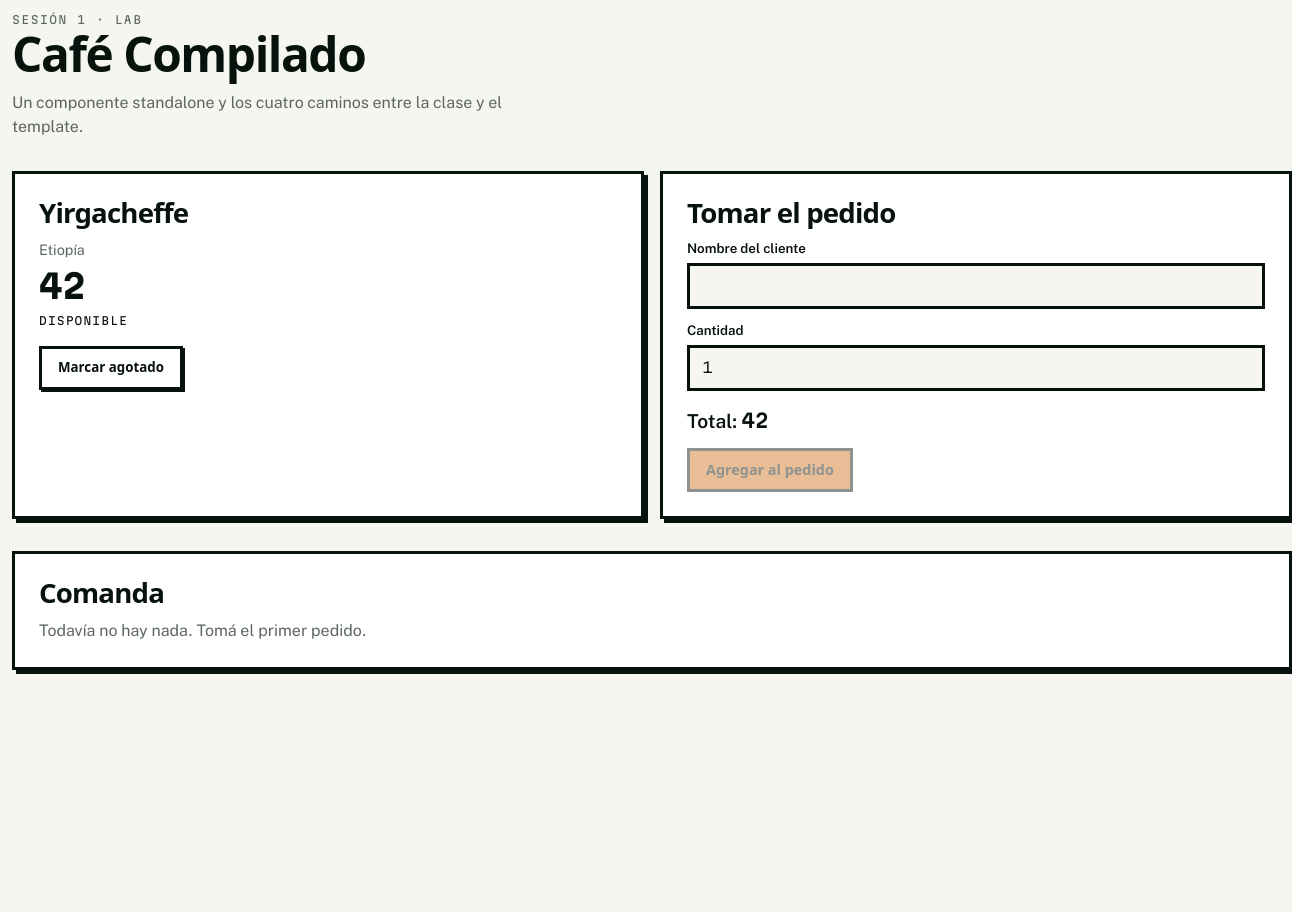
S01Component · los cuatro bindings › 4 · el total se actualiza mientras se escribe
Replace the text in the number field named "quantity" with "3" at (976, 368), box [687,345,1265,391]
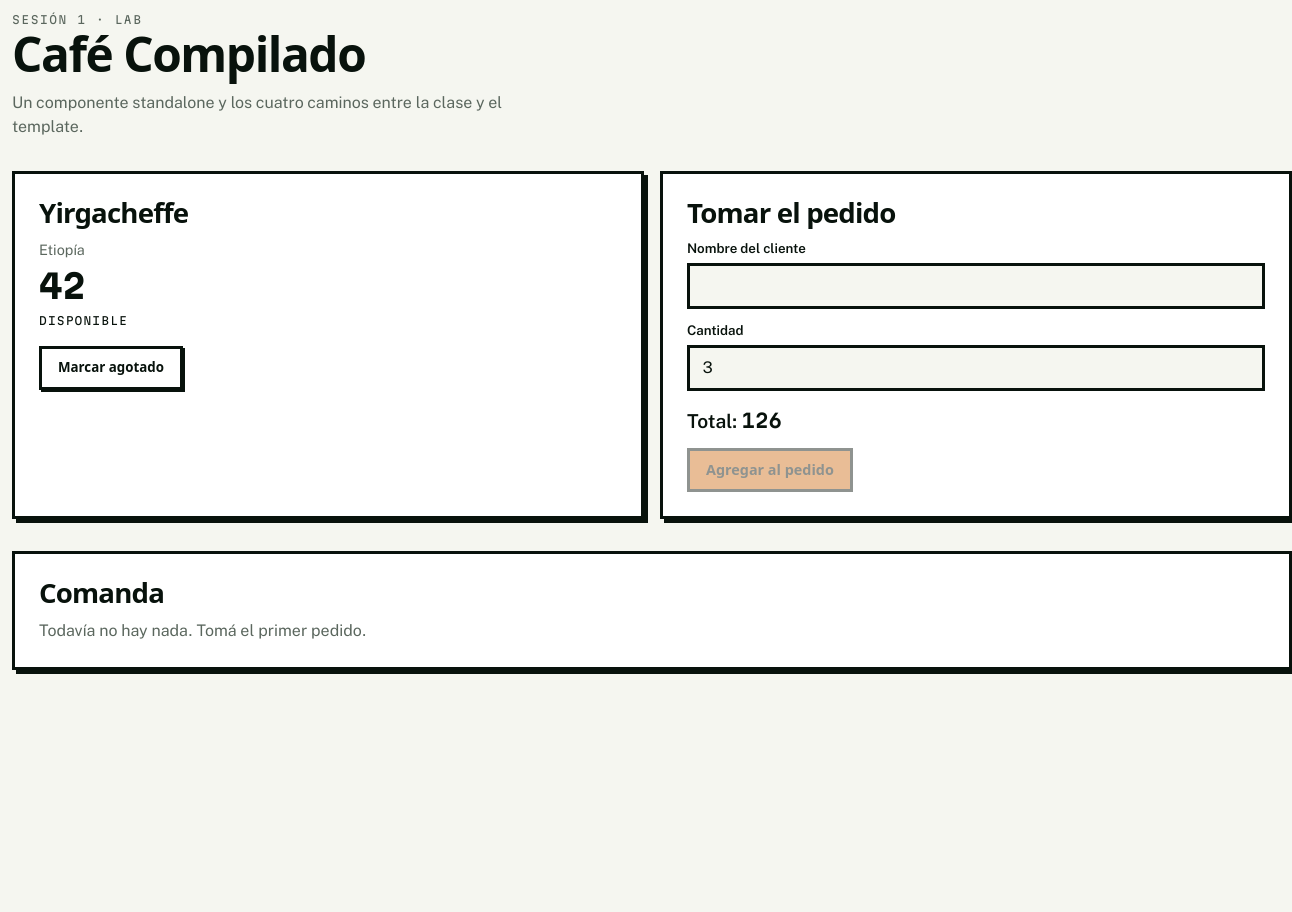
Expected: the element with class "order__total" is shown, [687,409,782,432]
Now the element with class "order__total" shows "126", box [742,409,782,432]
